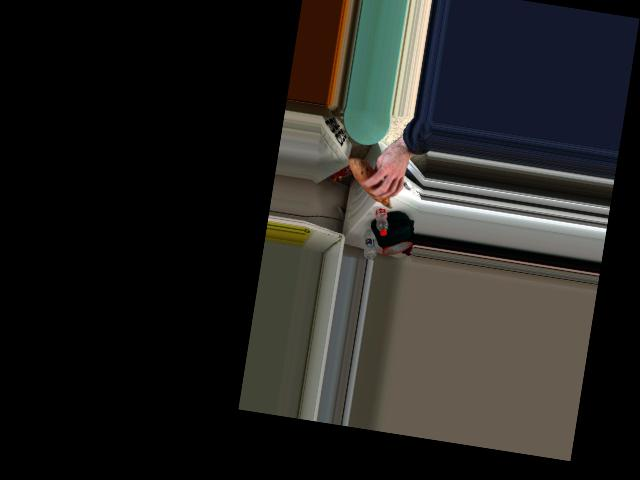sweet_potato: (345, 158, 401, 207)
